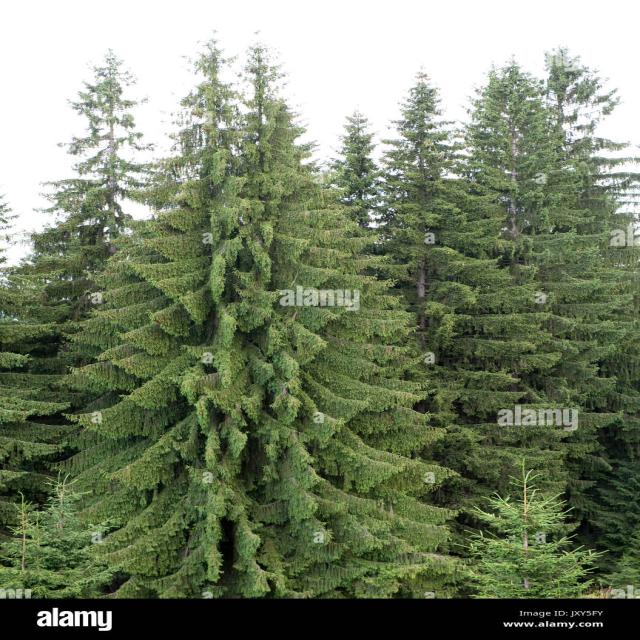Picea breweriana: (121, 78, 429, 599), (343, 89, 533, 571)
